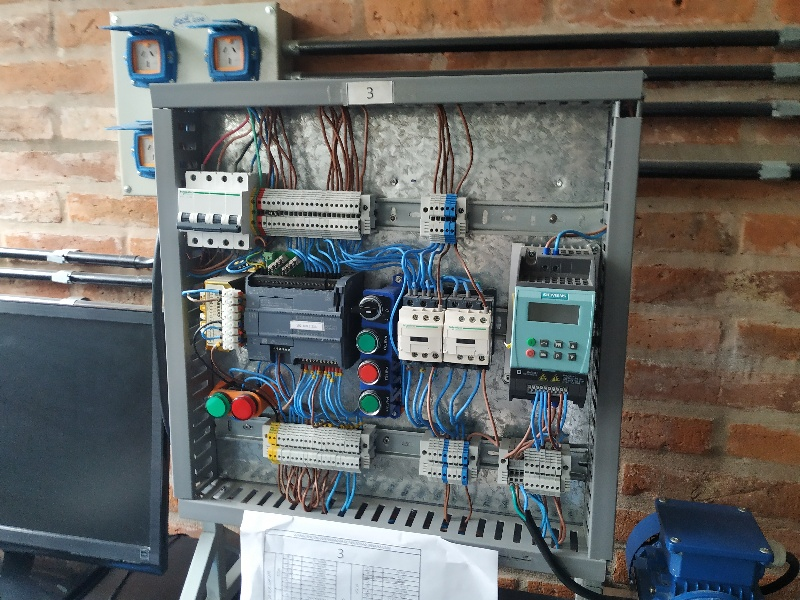Tablero 3: (167, 98, 605, 555)
